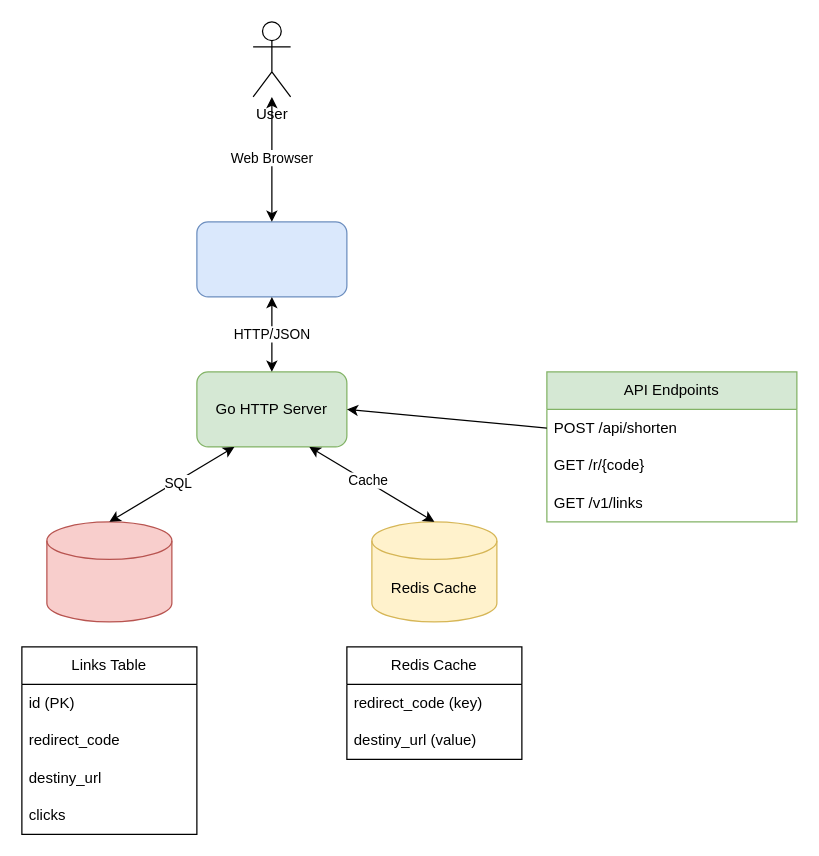
The diagram is 819 pixels wide and 856 high, and some of its shapes have lost their labels. The shapes that lost their labels are listed below. From the top down, each one's centre as x and y in pixels, then its label:
At point 271,259: "Frontend".
At point 109,571: "PostgreSQL".
